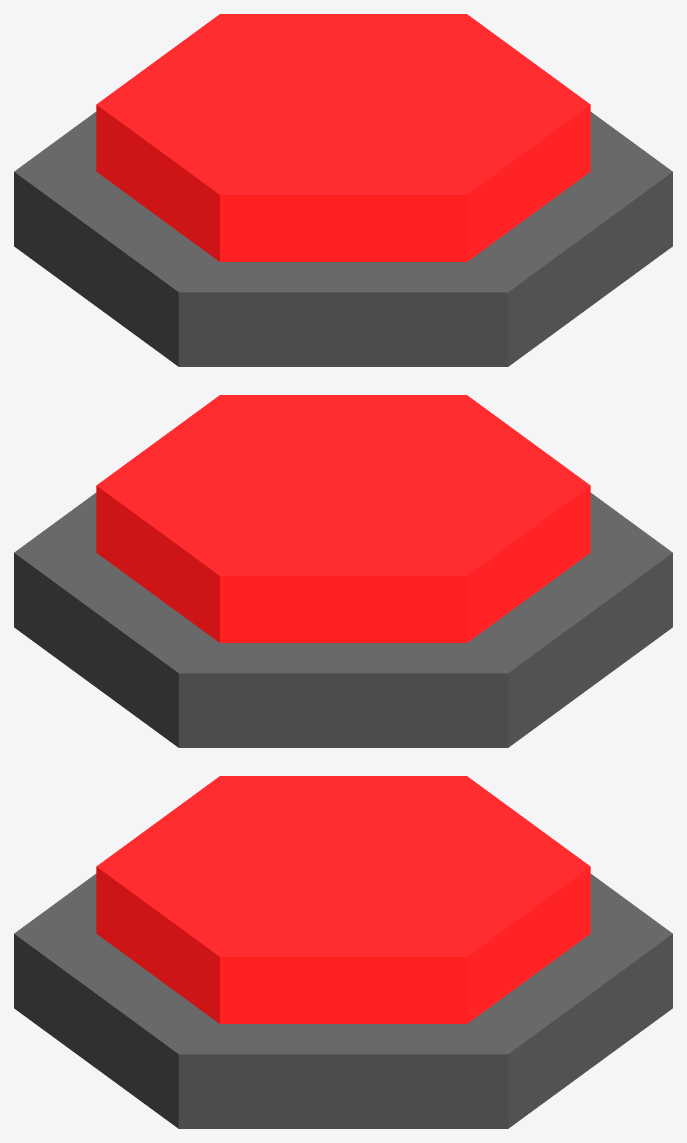
The model's file is button.glb.
The picture shows the model from 3 angles, top to bottom: view 1: azimuth 30°, elevation 25°; view 2: azimuth 150°, elevation 25°; view 3: azimuth 270°, elevation 25°; orthographic projection.
Parts seen in each view (by area): view 1: Button, Cylinder; view 2: Button, Cylinder; view 3: Button, Cylinder.
Part boxes in pixels (x1,y1,x2,y2): Button: (96, 14, 590, 261); Cylinder: (14, 112, 672, 366); Button: (96, 395, 590, 642); Cylinder: (14, 493, 672, 747); Button: (96, 776, 590, 1023); Cylinder: (14, 874, 672, 1128).
Bounding box in the file's own units: 0.3464 × 0.095 × 0.4.
